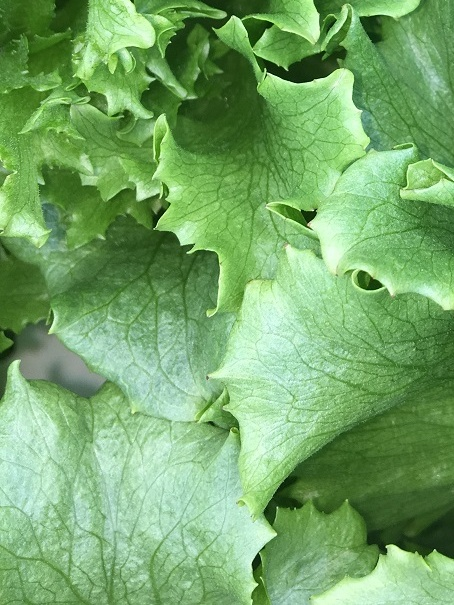tipburn: (199, 367, 220, 386), (124, 402, 144, 419), (328, 264, 346, 281), (231, 494, 249, 510), (280, 238, 296, 254), (302, 216, 318, 232), (302, 591, 319, 605), (386, 284, 399, 302), (260, 199, 275, 214), (366, 267, 381, 282)
